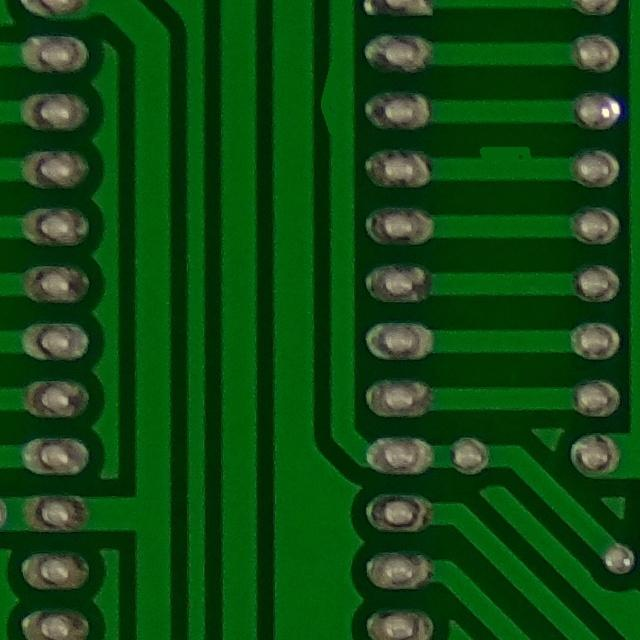spur: (314, 56, 356, 150), (462, 130, 548, 175)
